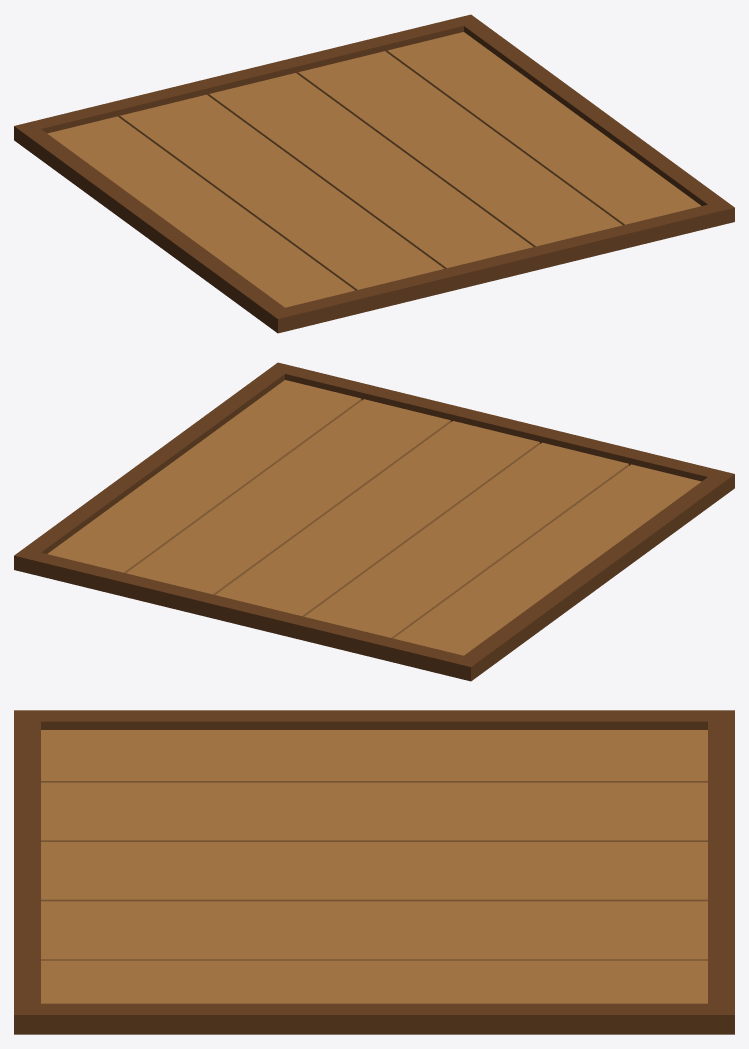
File: BuildFloor.glb
The picture shows the model from 3 angles, top to bottom: view 1: azimuth 30°, elevation 25°; view 2: azimuth 150°, elevation 25°; view 3: azimuth 270°, elevation 25°; orthographic projection. The views are drawn at different scales.
Parts seen in each view (by area): view 1: Planks, Frame; view 2: Planks, Frame; view 3: Planks, Frame.
Boxes of the visible parts, box(x1,y1,x2,y2) form: Planks: box(47, 32, 700, 307); Frame: box(14, 14, 734, 333); Planks: box(48, 380, 701, 655); Frame: box(14, 362, 734, 681); Planks: box(41, 730, 707, 1003); Frame: box(14, 710, 734, 1034).
Size of the model in its own units: 4 by 0.12 by 4.
